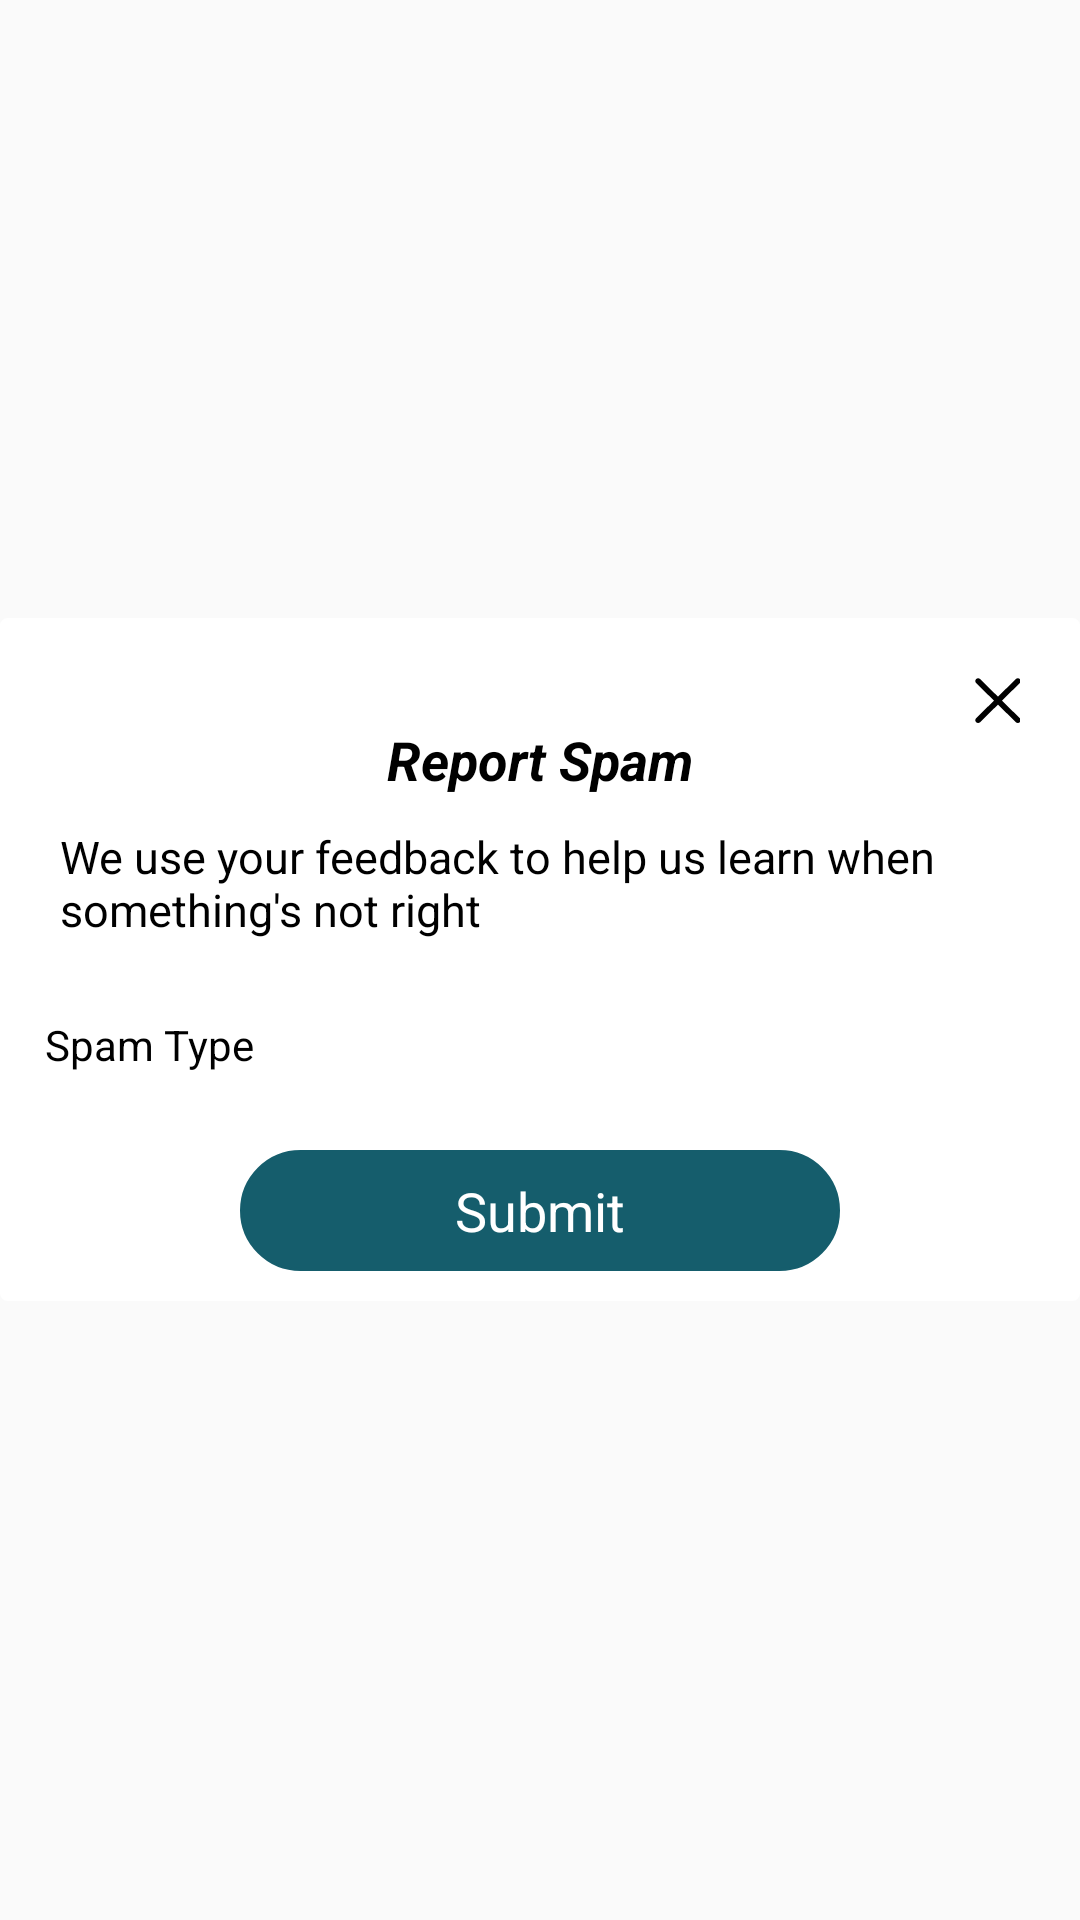

Screen size 1080*1920. Icon name, then its box in pixels as (x1, y1, x2, y2):
close: (975, 678, 1020, 723)
